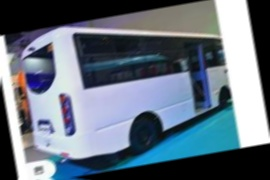bus: (12, 4, 239, 180)
